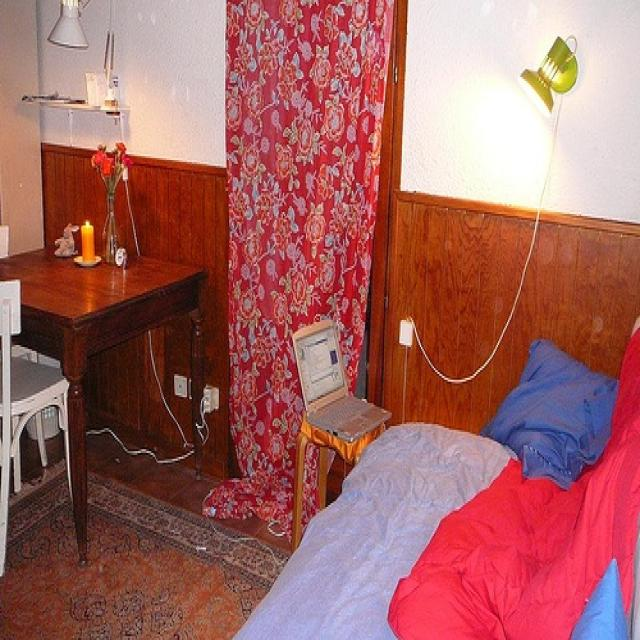chair: (3, 280, 73, 580)
sofa: (236, 309, 638, 638)
